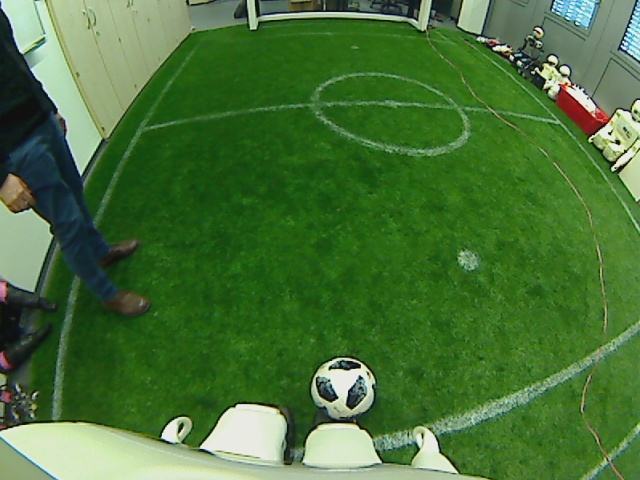ball: (308, 356, 378, 420)
